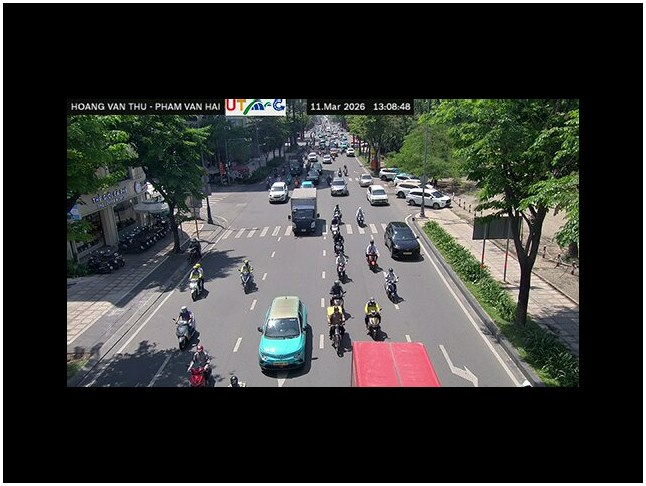car: (257, 295, 313, 374), (383, 220, 422, 261), (407, 189, 452, 208), (367, 186, 391, 207), (268, 182, 289, 204), (428, 189, 452, 208), (395, 176, 421, 192), (329, 177, 349, 196), (359, 173, 374, 187)
motorbike: (175, 321, 199, 351), (385, 272, 402, 303), (366, 320, 389, 342), (242, 273, 258, 294)
truck: (289, 187, 319, 236)
